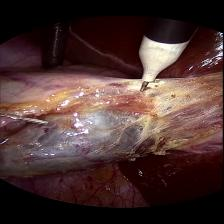Hook: (132, 34, 196, 92)
